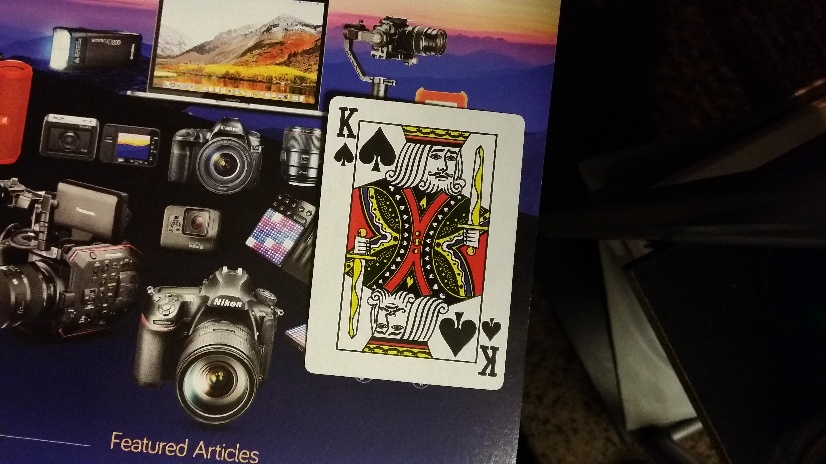Sk: (479, 314, 503, 383), (333, 102, 358, 167)
